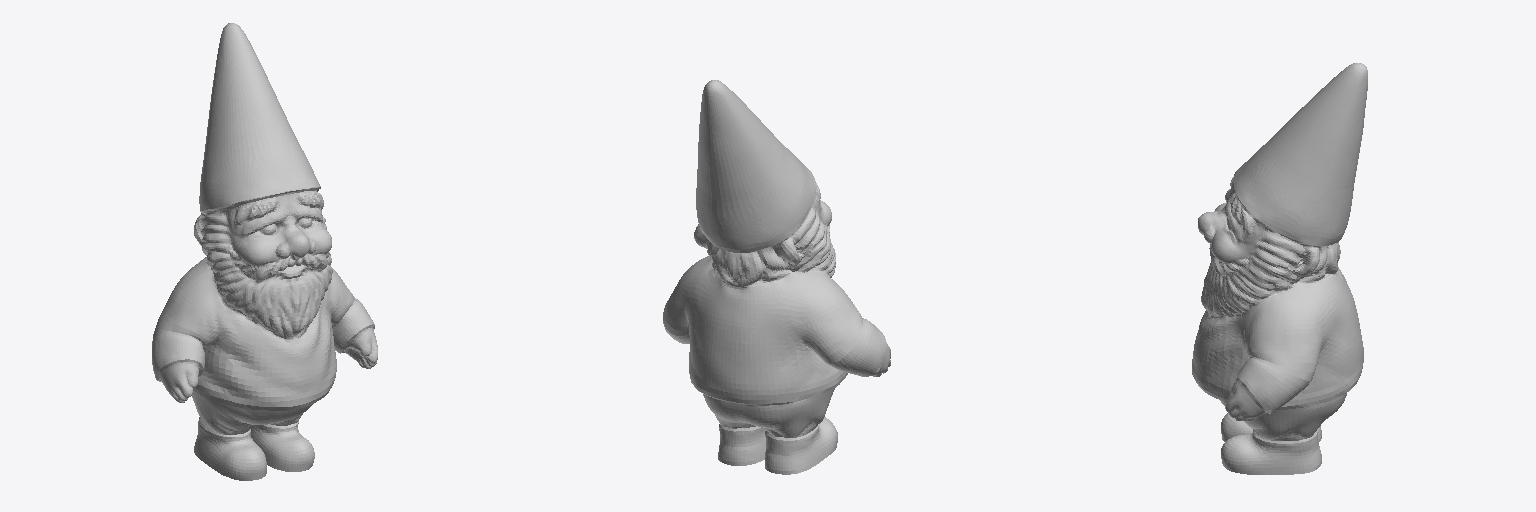
The model's file is gnome.obj.
3 views of the same model, side by side, from view 1: azimuth 30°, elevation 25°; view 2: azimuth 150°, elevation 25°; view 3: azimuth 270°, elevation 25° (orthographic).
Visible parts, largest first — view 1: 13184_PudgyGnome_v1_NEW; view 2: 13184_PudgyGnome_v1_NEW; view 3: 13184_PudgyGnome_v1_NEW.
Part boxes in pixels (left/top/right/bottom): 13184_PudgyGnome_v1_NEW: left=152, top=23, right=377, bottom=480; 13184_PudgyGnome_v1_NEW: left=663, top=80, right=890, bottom=474; 13184_PudgyGnome_v1_NEW: left=1192, top=63, right=1367, bottom=474.
Bounding box in the file's own units: 0.4921 × 0.8773 × 0.3514.